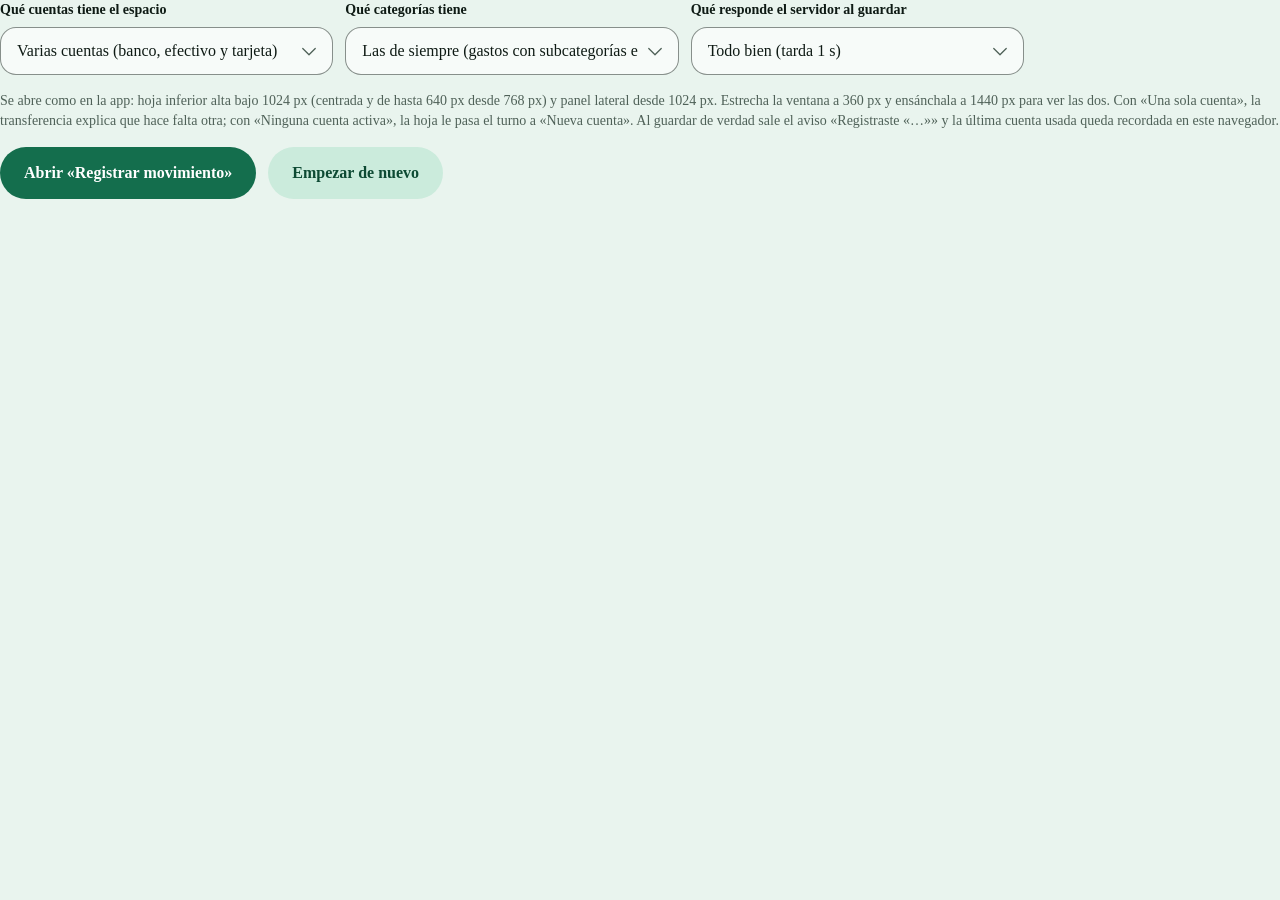
Test: MovementSheetDemo › explains that a transfer needs a second account when there is only one
This screenshot has width=1280, height=900.
Step 1. Select "Una sola cuenta (la transferencia lo explica)" in the dropdown labelled "Qué cuentas tiene el espacio" → (167, 51), box 0,27 -> 333,75
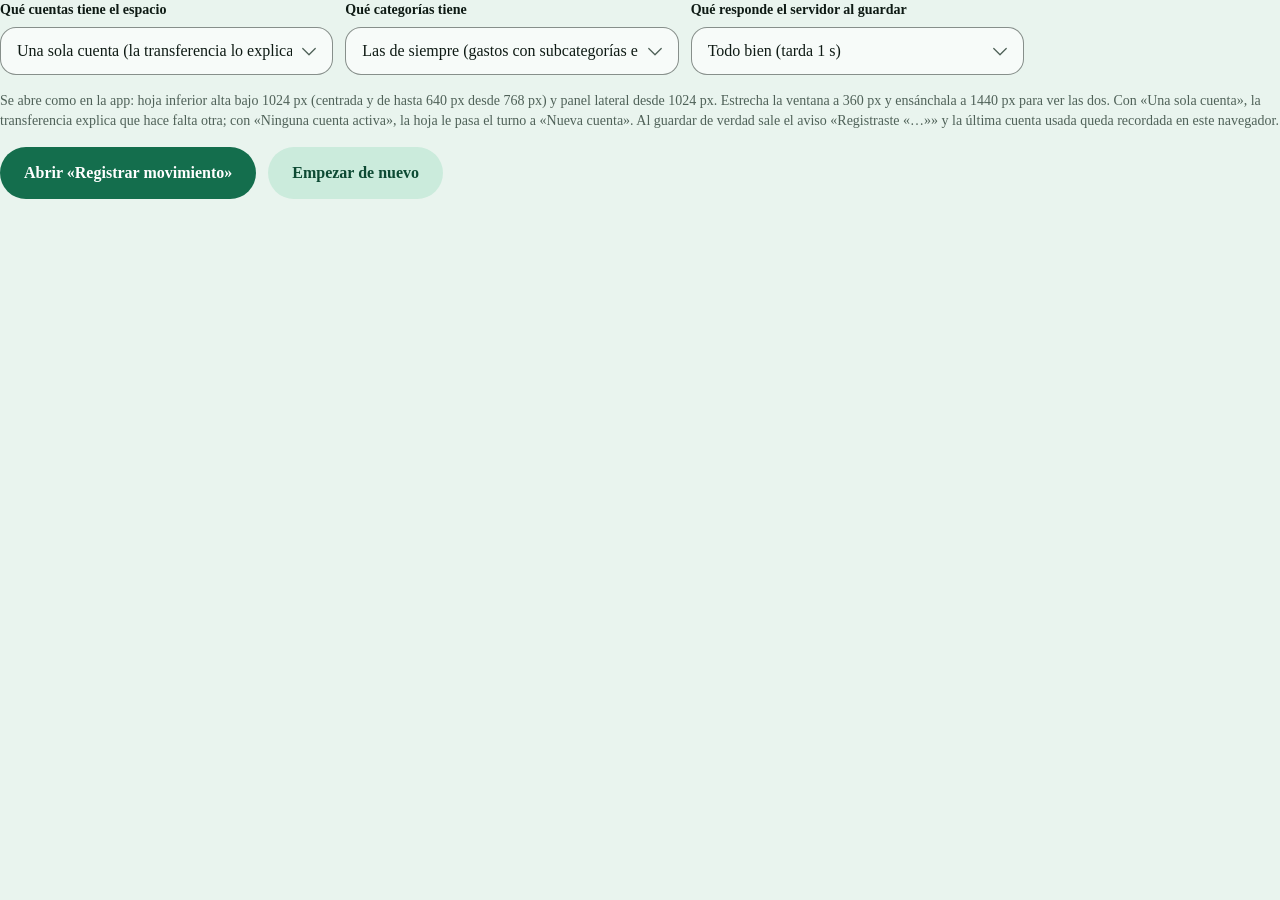
Step 2. Click the button "Abrir «Registrar movimiento»" → (128, 173), box 0,147 -> 256,199
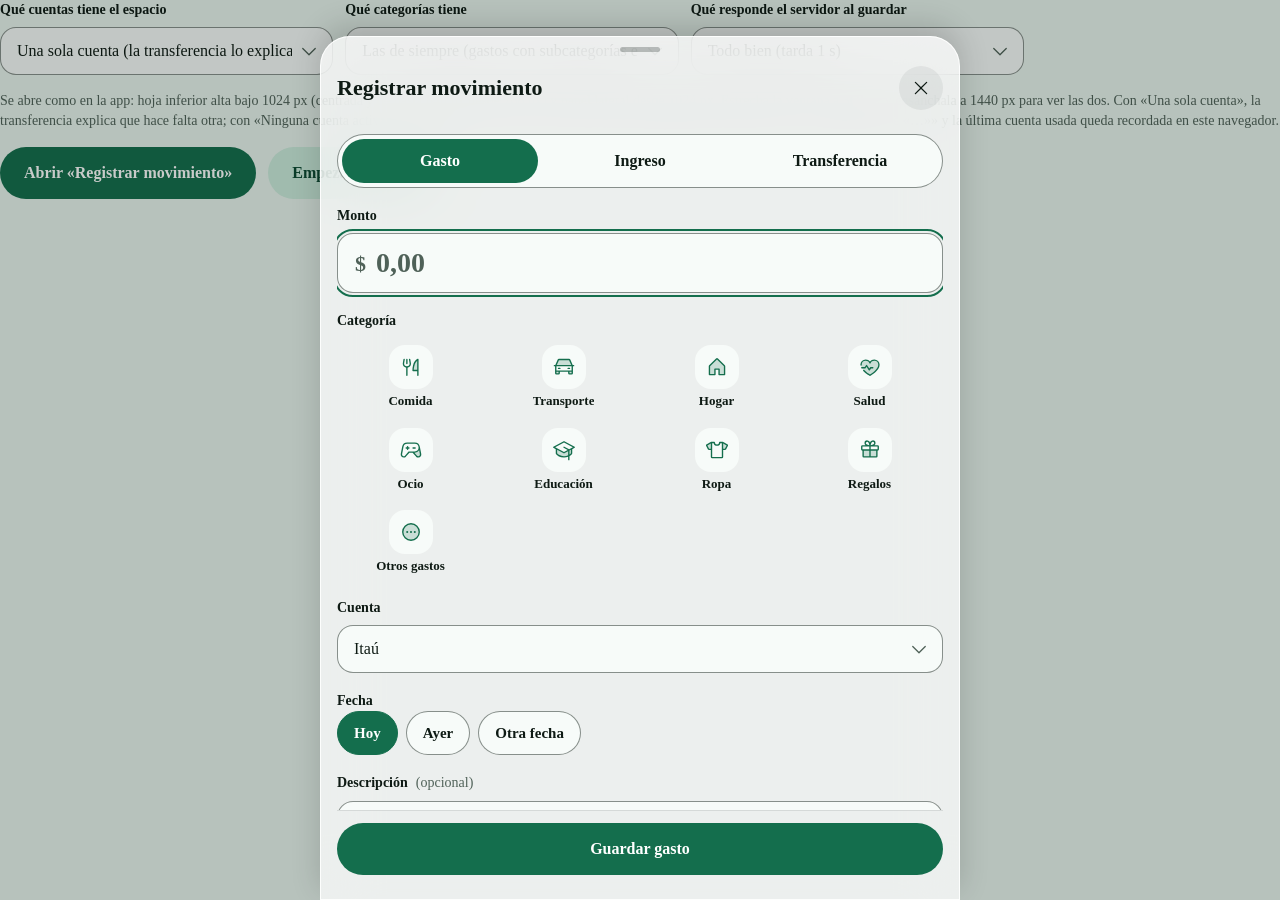
Step 3. Click the radio button labelled "Transferencia" → (840, 160), box 793,152 -> 887,169
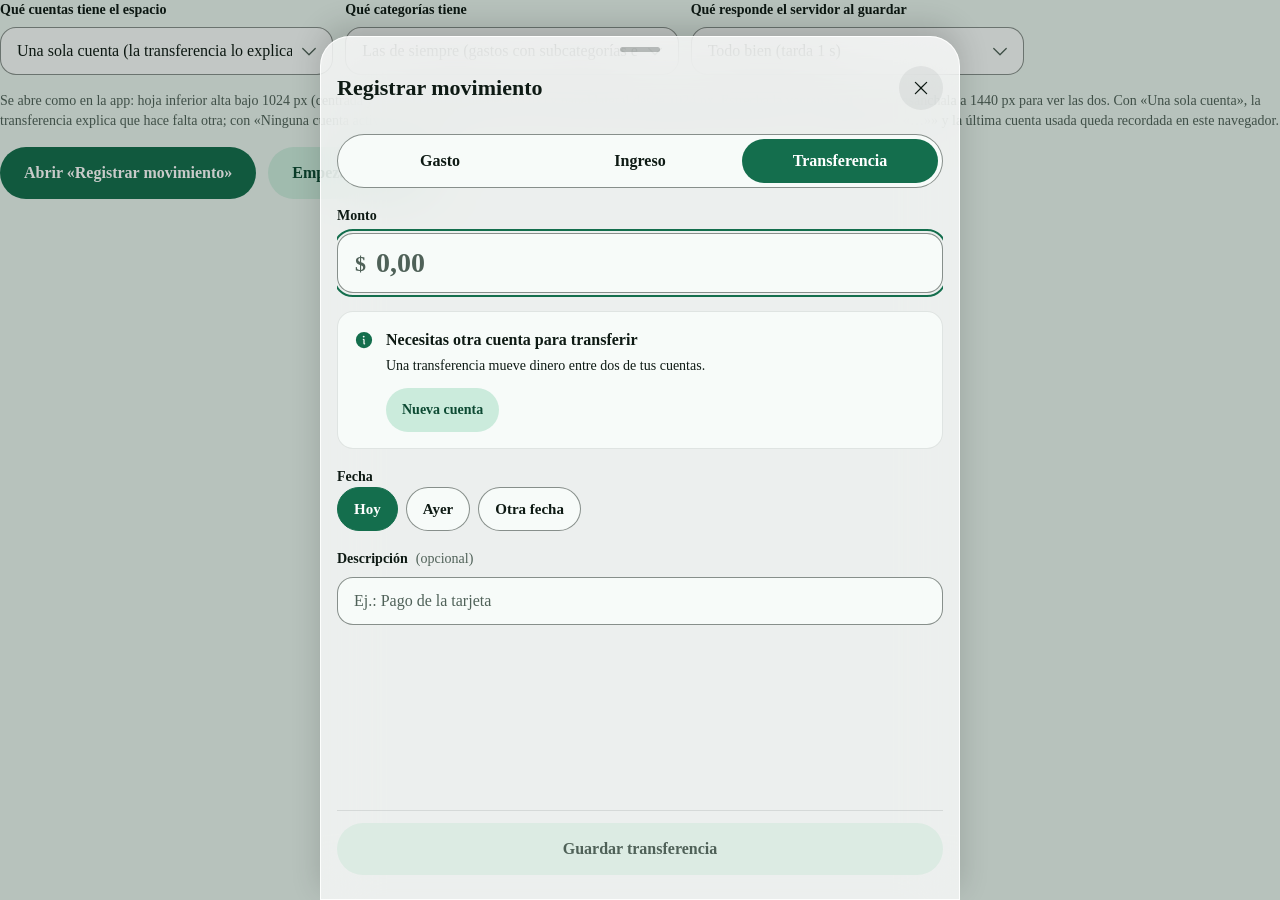
Result: the text "Necesitas otra cuenta para transferir" is shown at 386,331 -> 638,348
